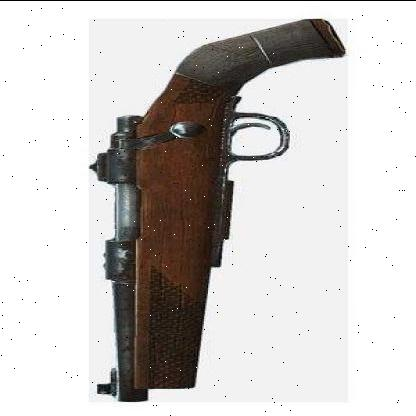rifle: (72, 11, 362, 405)
